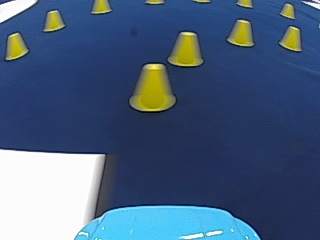cone: (130, 63, 175, 112), (168, 30, 203, 67), (226, 19, 254, 46), (5, 31, 28, 59), (279, 25, 301, 51), (43, 9, 64, 31), (91, 0, 110, 14), (280, 3, 294, 19)
